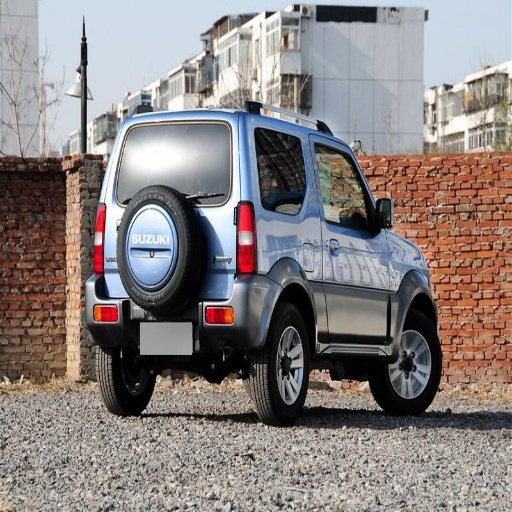back_bumper: (91, 274, 276, 353)
back_right_door: (253, 125, 334, 340)
tailgate: (105, 213, 180, 289)
trunk: (109, 176, 237, 289)
